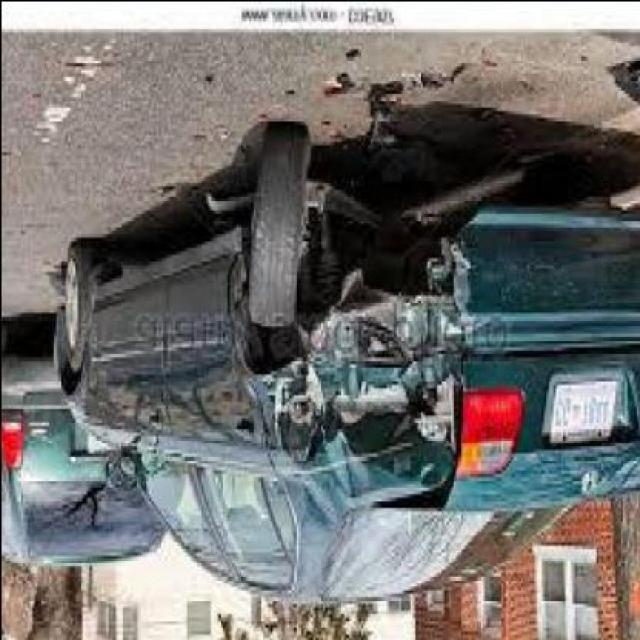damage: (217, 197, 477, 514)
